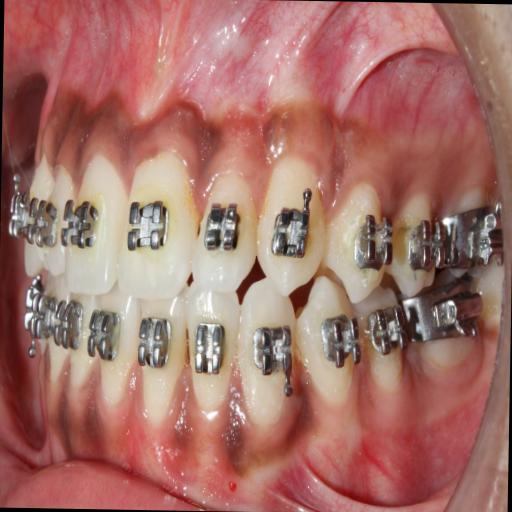correct_brace: (298, 279, 364, 402), (324, 188, 388, 302), (128, 190, 174, 256), (270, 202, 314, 266), (323, 308, 363, 376), (250, 321, 295, 381), (64, 193, 101, 259), (200, 196, 244, 250), (193, 321, 227, 378)
incorrect_brace: (189, 168, 256, 286), (184, 288, 240, 426), (352, 207, 396, 278)
